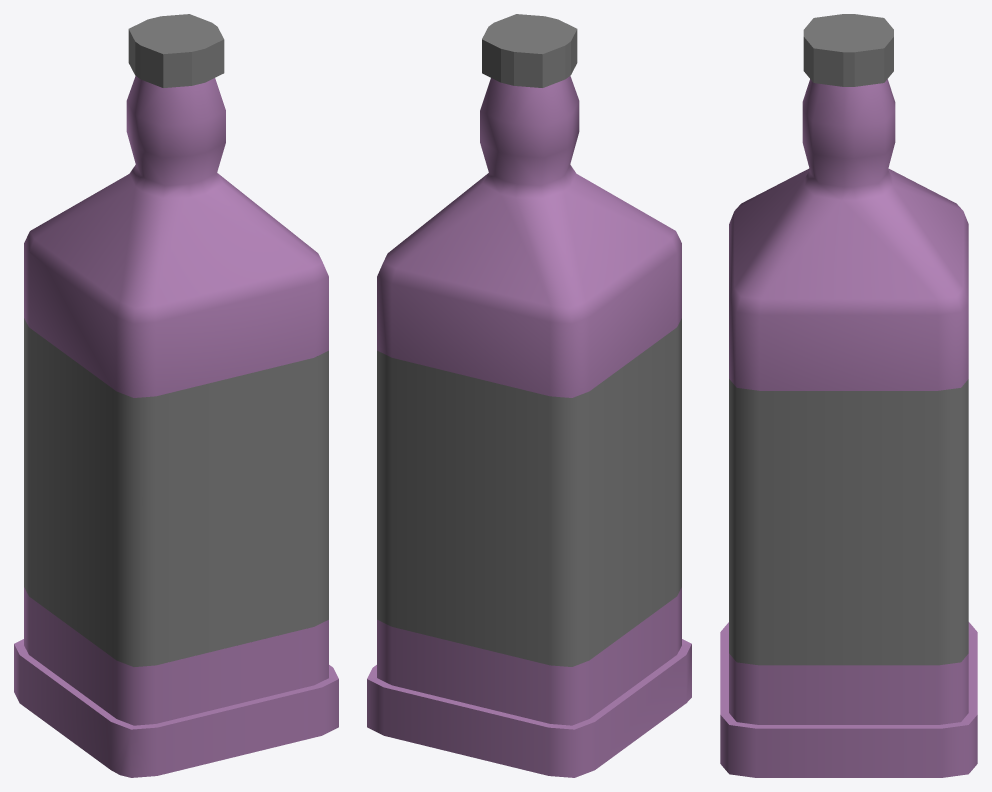
The model's file is Bouteil_Alcool.fbx.
3 renders of one model, left to right at view 1: azimuth 30°, elevation 25°; view 2: azimuth 150°, elevation 25°; view 3: azimuth 270°, elevation 25°, orthographic. The views are drawn at different scales.
Visible parts, largest first — view 1: Bouteil_Alcool; view 2: Bouteil_Alcool; view 3: Bouteil_Alcool.
Part boxes in pixels (x1=…): Bouteil_Alcool: x1=14, y1=14, x2=338, y2=777; Bouteil_Alcool: x1=367, y1=14, x2=691, y2=777; Bouteil_Alcool: x1=720, y1=14, x2=977, y2=777.
Bounding box in the file's own units: 7.72 × 22.42 × 7.59.
